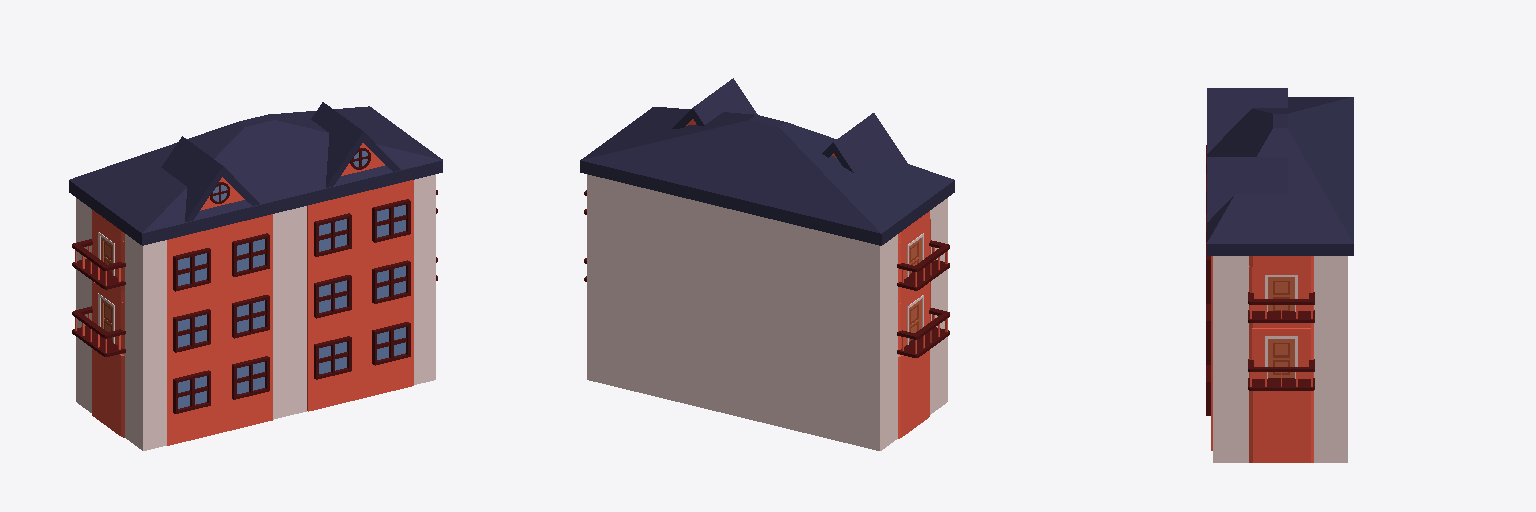
The model's file is building3.obj.
3 views of the same model, side by side, from view 1: azimuth 30°, elevation 25°; view 2: azimuth 150°, elevation 25°; view 3: azimuth 270°, elevation 25° (orthographic).
Parts seen in each view (by area): view 1: open, roof_point, block, window_wide, roof, wall, balcony_basic, doorway_doorSolid, window_round_detail; view 2: block, roof_point, roof, wall, balcony_basic, doorway_doorSolid; view 3: roof_point, block, roof, wall, doorway_doorSolid, balcony_basic, window_wide.
Part boxes in pixels (x1,y1,x2,y2): open: (167,180,413,445); roof_point: (69,106,442,245); block: (76,174,435,450); window_wide: (173,199,410,413); roof: (161,102,400,221); wall: (92,210,124,437); balcony_basic: (72,190,437,356); doorway_doorSolid: (92,220,124,353); window_round_detail: (210,148,370,203); block: (587,174,947,450); roof_point: (580,107,954,245); roof: (672,78,907,173); wall: (898,211,929,438); balcony_basic: (584,190,949,357); doorway_doorSolid: (898,219,930,354); roof_point: (1207,97,1353,255); block: (1213,256,1347,462); roof: (1207,88,1287,221); wall: (1249,256,1313,462); doorway_doorSolid: (1249,266,1313,378); balcony_basic: (1248,292,1314,390); window_wide: (1206,145,1210,415).
Bounding box in the file's own units: 5.7 × 4.4 × 2.18.